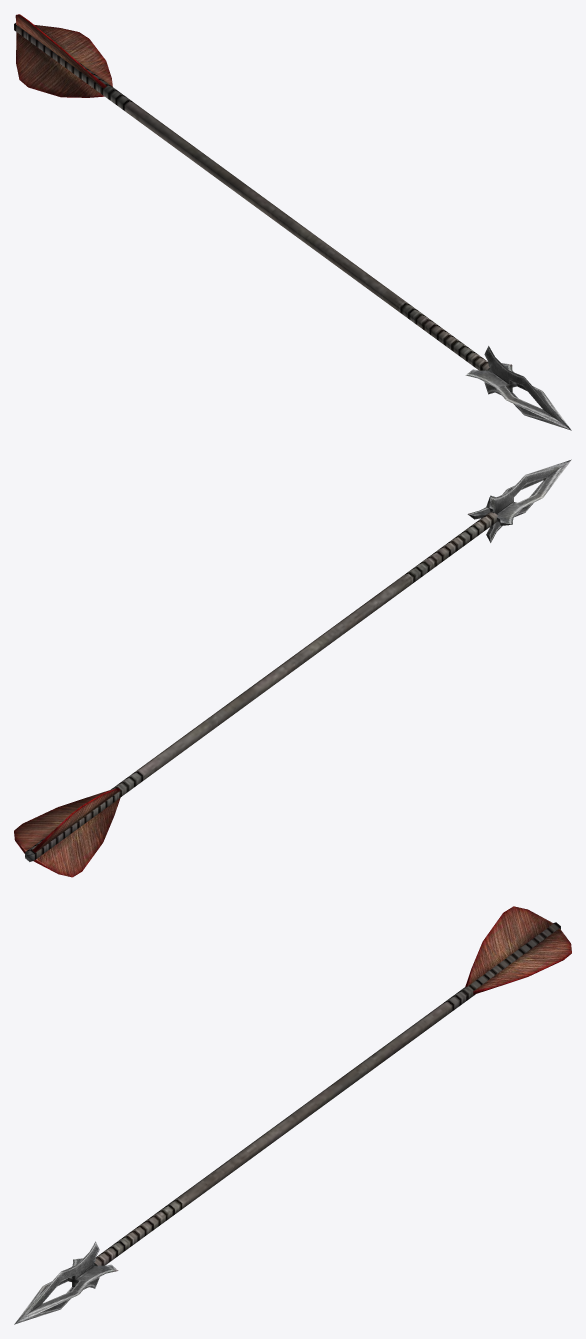
The model's file is steel-arrow.glb.
3 views of the same model, one above another, from view 1: azimuth 30°, elevation 25°; view 2: azimuth 150°, elevation 25°; view 3: azimuth 330°, elevation 25° (orthographic). The views are drawn at different scales.
Parts seen in each view (by area): view 1: SteelArrowFlight:0; view 2: SteelArrowFlight:0; view 3: SteelArrowFlight:0.
Part boxes in pixels (x1=…): SteelArrowFlight:0: x1=14, y1=14, x2=571, y2=430; SteelArrowFlight:0: x1=14, y1=459, x2=571, y2=877; SteelArrowFlight:0: x1=14, y1=906, x2=571, y2=1324.
Size of the model in its own units: 0.0488 by 0.0501 by 0.75.
1 material, 1 textured.
